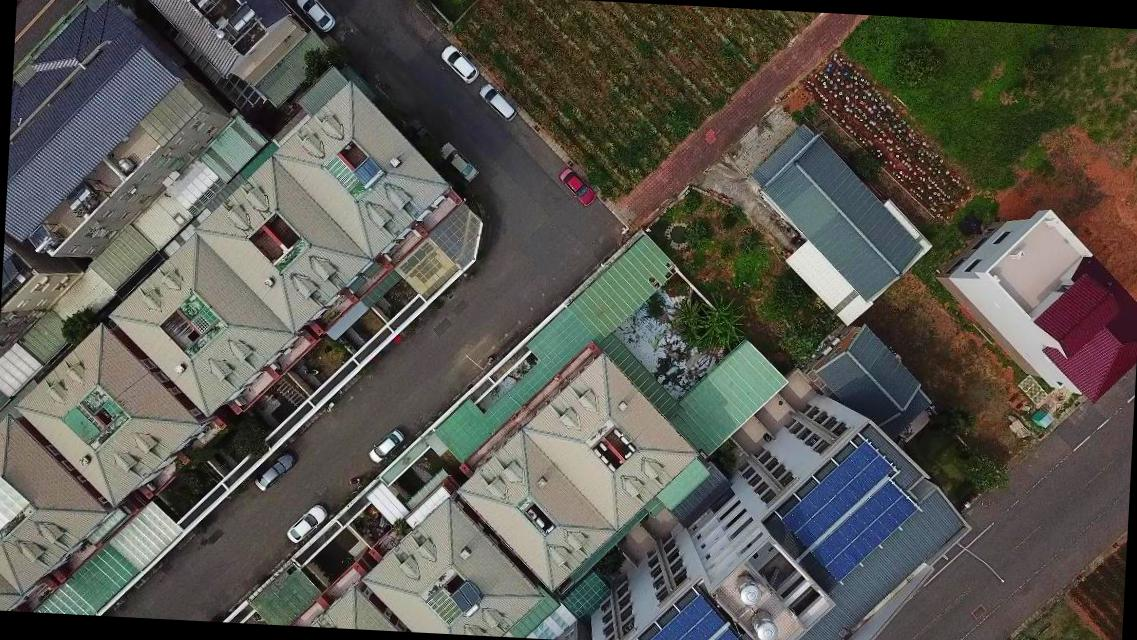vehicle: (286, 504, 328, 546), (438, 141, 478, 184), (556, 168, 598, 208), (254, 452, 294, 494), (438, 45, 479, 85), (291, 0, 339, 34), (476, 82, 516, 121), (368, 428, 405, 466)
